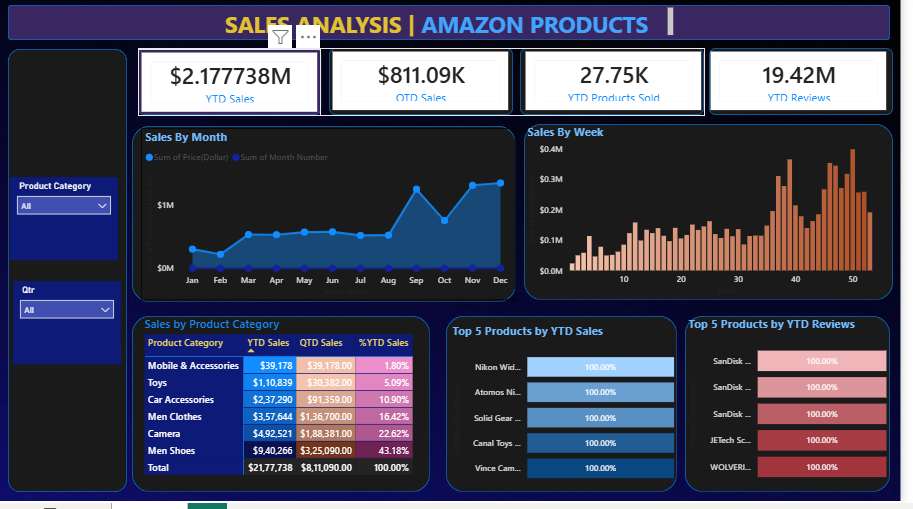

What the dashboard file says about the page in this screenshot:
{"tool":"powerbi","page":{"name":"Page 1","canvas":[1280,720],"ordinal":0},"visuals":[{"type":"shape","box":[15.6,14.2,1250.1,49.6],"z":0},{"type":"shape","box":[199.8,75.1,260,95],"z":0,"group":"g1"},{"type":"textbox","box":[317.5,12.8,646.3,51],"z":1000},{"type":"cardVisual","fields":{"Data":["Amazon_Data.YTD Sales"]},"box":[199.8,76.5,259.4,95],"z":1000,"group":"g1"},{"type":"shape","box":[470,75.1,260.8,95],"z":2000,"group":"g1"},{"type":"shape","box":[1009.1,75.1,260.8,95],"z":2000},{"type":"shape","box":[741,75.1,260.8,95],"z":3000,"group":"g1"},{"type":"cardVisual","fields":{"Data":["Amazon_Data.YTD Reviews"]},"box":[1006.3,75.1,259.4,93.5],"z":3000},{"type":"group","id":"g1","title":"Group 1","box":[199.8,75.1,803.6,96.4],"z":4000},{"type":"cardVisual","fields":{"Data":["Amazon_Data.QTD Sales"]},"box":[470.5,75.1,259.4,93.5],"z":4000,"group":"g1"},{"type":"cardVisual","fields":{"Data":["Amazon_Data.YTD Products Sold"]},"box":[744.1,75.1,259.4,93.5],"z":5000,"group":"g1"},{"type":"shape","box":[746.9,182.8,523,249.4],"z":5000},{"type":"shape","box":[191.3,185.7,544.3,249.4],"z":6000},{"type":"areaChart","title":"Sales By Month","fields":{"Category":["Date Table.Month Name"],"Y":["Sum(Amazon_Data.Price(Dollar))","Sum(Date Table.Month Number)"]},"box":[204.1,188.5,531.5,243.8],"z":7000},{"type":"shape","box":[15.6,76.5,168.7,627.9],"z":8000},{"type":"columnChart","title":"Sales By Week","fields":{"Category":["Date Table.Week"],"Y":["Sum(Amazon_Data.Price(Dollar))"]},"box":[746.9,182.8,518.7,246.6],"z":9000},{"type":"shape","box":[191.3,455,422.4,249.4],"z":10000},{"type":"shape","box":[636.4,455,327.4,249.4],"z":11000},{"type":"pivotTable","title":"Sales by Product Category","fields":{"Rows":["Amazon_Data.Product Category"],"Values":["Amazon_Data.YTD Sales1","Amazon_Data.QTD Sales","Amazon_Data.YTD Sales"]},"box":[204.1,455,425.2,249.4],"z":12000},{"type":"shape","box":[975.1,455,290.6,249.4],"z":13000},{"type":"hundredPercentStackedBarChart","title":"Top 5 Products by YTD Sales","fields":{"Category":["Amazon_Data.Product Description"],"Y":["Amazon_Data.YTD Sales1"]},"box":[640,465.3,324.2,240.2],"z":14000},{"type":"hundredPercentStackedBarChart","title":"Top 5 Products by YTD Reviews","fields":{"Category":["Amazon_Data.Product Description"],"Y":["Amazon_Data.YTD Reviews"]},"box":[975.1,455,290.6,249.4],"z":15000},{"type":"slicer","fields":{"Values":["Amazon_Data.Product Category"]},"box":[18.4,258,153.1,117.6],"z":16000},{"type":"slicer","fields":{"Values":["Date Table.Qtr"]},"box":[22.7,405.4,153.1,117.6],"z":17000}]}

Visuals, with their boxes in screenshot pixels (x1, y1, x2, y2), scaled from the page's 1280x720 canvas onto the 913x509 screenshot:
shape: <bbox>11, 10, 903, 45</bbox>
shape: <bbox>143, 53, 328, 120</bbox>
textbox: <bbox>226, 9, 687, 45</bbox>
cardVisual - Amazon_Data.YTD Sales: <bbox>143, 54, 328, 121</bbox>
shape: <bbox>335, 53, 521, 120</bbox>
shape: <bbox>720, 53, 906, 120</bbox>
shape: <bbox>529, 53, 715, 120</bbox>
cardVisual - Amazon_Data.YTD Reviews: <bbox>718, 53, 903, 119</bbox>
"Group 1" group: <bbox>143, 53, 716, 121</bbox>
cardVisual - Amazon_Data.QTD Sales: <bbox>336, 53, 521, 119</bbox>
cardVisual - Amazon_Data.YTD Products Sold: <bbox>531, 53, 716, 119</bbox>
shape: <bbox>533, 129, 906, 306</bbox>
shape: <bbox>136, 131, 525, 308</bbox>
"Sales By Month" areaChart: <bbox>146, 133, 525, 306</bbox>
shape: <bbox>11, 54, 131, 498</bbox>
"Sales By Week" columnChart: <bbox>533, 129, 903, 304</bbox>
shape: <bbox>136, 322, 438, 498</bbox>
shape: <bbox>454, 322, 687, 498</bbox>
"Sales by Product Category" pivotTable: <bbox>146, 322, 449, 498</bbox>
shape: <bbox>696, 322, 903, 498</bbox>
"Top 5 Products by YTD Sales" hundredPercentStackedBarChart: <bbox>456, 329, 688, 499</bbox>
"Top 5 Products by YTD Reviews" hundredPercentStackedBarChart: <bbox>696, 322, 903, 498</bbox>
slicer - Amazon_Data.Product Category: <bbox>13, 182, 122, 266</bbox>
slicer - Date Table.Qtr: <bbox>16, 287, 125, 370</bbox>
